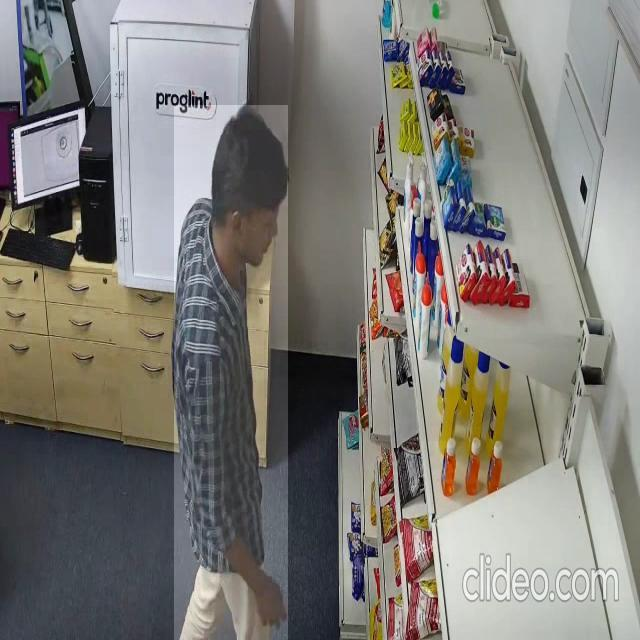normal: (175, 105, 289, 640)
